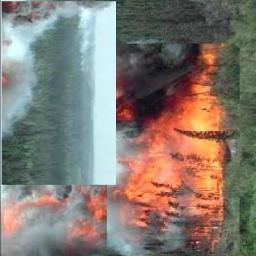Large fire: (116, 43, 225, 256)
Low smoke: (3, 185, 82, 255), (5, 28, 46, 138)
